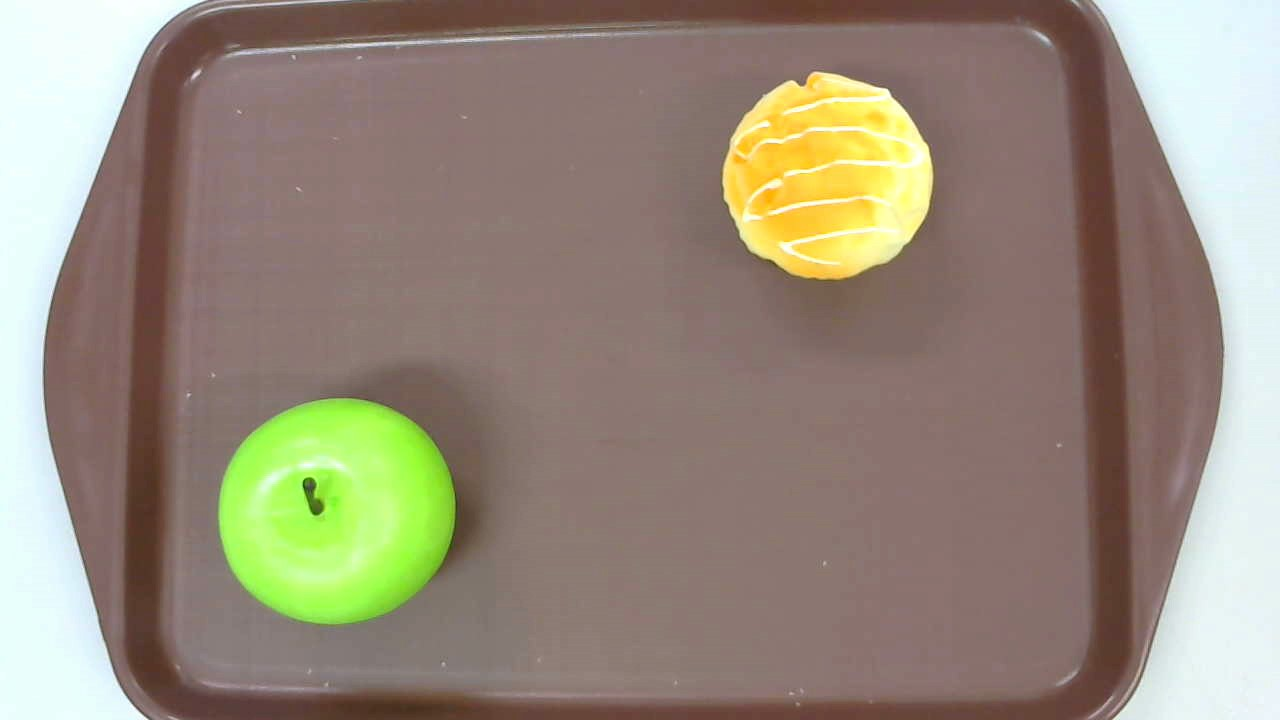cupcake: (723, 72, 935, 280)
green apple: (217, 396, 455, 626)
